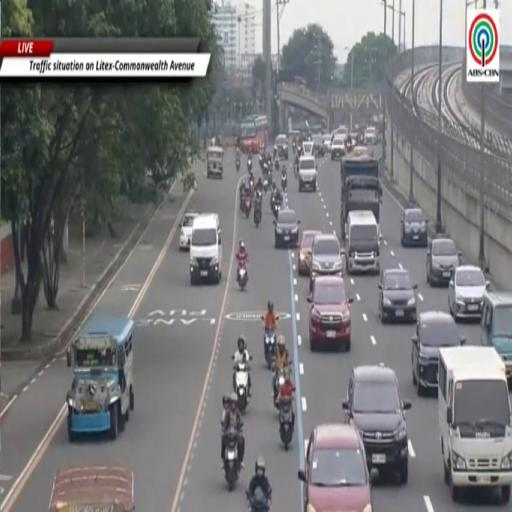bus: (240, 116, 268, 153), (255, 116, 269, 148)
car: (343, 364, 411, 484), (298, 424, 372, 511), (412, 312, 465, 395), (308, 277, 353, 351), (448, 265, 489, 322), (378, 269, 417, 323), (427, 236, 461, 285), (310, 233, 342, 276), (297, 231, 321, 275), (401, 208, 428, 247), (274, 210, 300, 248), (179, 211, 199, 250), (298, 156, 317, 191), (331, 136, 346, 161), (274, 135, 288, 159), (364, 126, 377, 145), (313, 135, 324, 156), (334, 125, 348, 139), (303, 141, 314, 156), (349, 132, 360, 146), (323, 135, 331, 152)
jeepney: (67, 316, 134, 441), (50, 464, 134, 511), (207, 147, 223, 179)
motorcycle: (224, 431, 239, 491), (234, 362, 250, 412), (279, 397, 294, 450), (246, 487, 271, 511), (264, 329, 276, 369), (274, 370, 284, 408), (237, 266, 247, 291), (271, 197, 281, 219), (254, 202, 261, 227), (243, 197, 251, 218), (281, 168, 287, 190), (259, 155, 264, 171), (294, 164, 299, 179), (263, 179, 268, 193), (262, 163, 267, 175), (248, 157, 252, 171), (236, 158, 240, 171), (292, 141, 296, 153), (275, 159, 279, 171)
truck: (438, 346, 511, 504), (341, 148, 381, 238)
